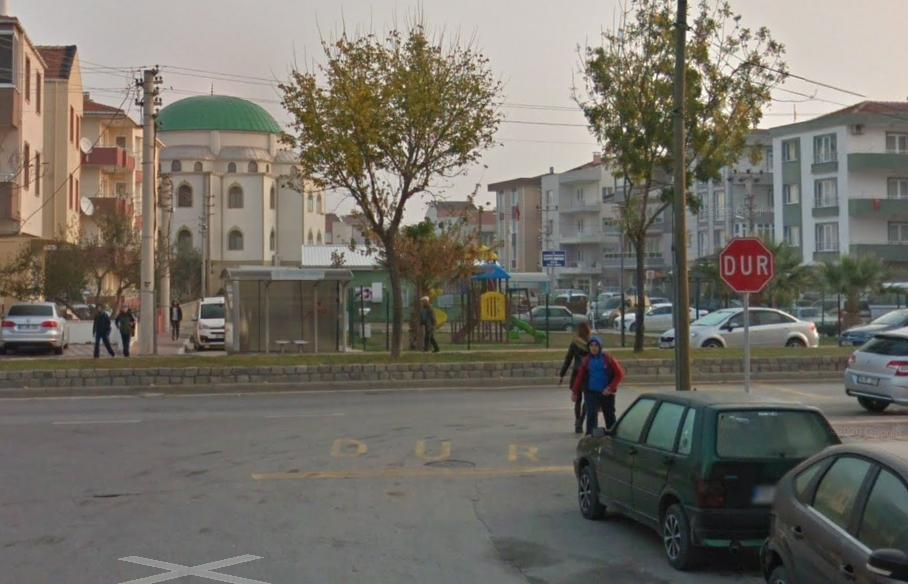stop: (718, 233, 776, 295)
